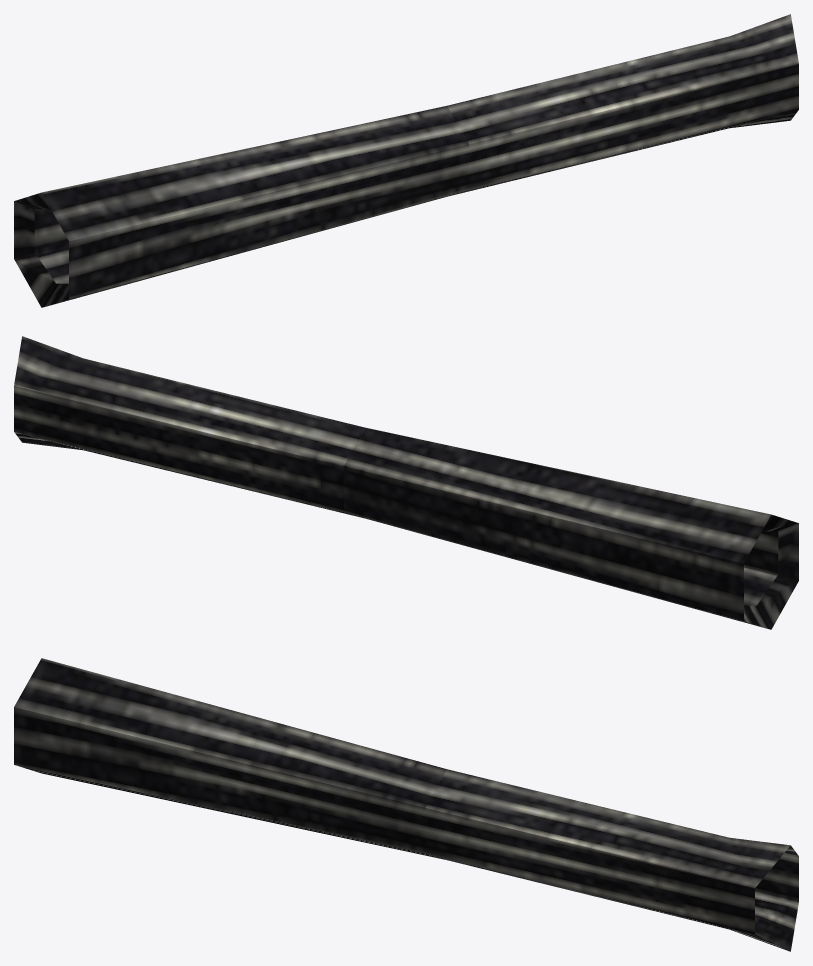
Rendered from Jack_brazo_der.obj.
The picture shows the model from 3 angles, top to bottom: view 1: azimuth 30°, elevation 25°; view 2: azimuth 150°, elevation 25°; view 3: azimuth 330°, elevation 25°; orthographic projection.
Visible parts, largest first — view 1: rdmobj01.003_rdmobj01.006; view 2: rdmobj01.003_rdmobj01.006; view 3: rdmobj01.003_rdmobj01.006.
Part boxes in pixels (box(x1,y1,x2,y2)): rdmobj01.003_rdmobj01.006: box(14, 14, 798, 307); rdmobj01.003_rdmobj01.006: box(14, 336, 798, 629); rdmobj01.003_rdmobj01.006: box(14, 658, 798, 951).
Size of the model in its own units: 0.4368 by 0.0643 by 0.0557.
Materials: 1 (1 with a texture image).
